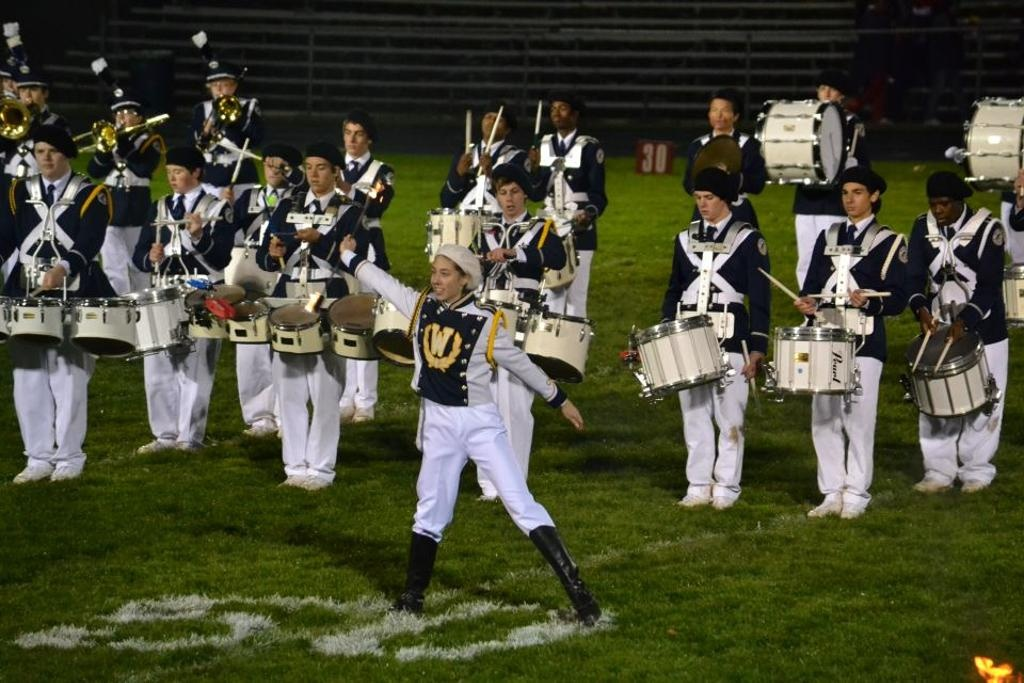human_face: (430, 253, 460, 301), (304, 154, 332, 192), (497, 176, 523, 216), (929, 190, 957, 226), (34, 140, 62, 176), (164, 160, 192, 192), (842, 180, 868, 214), (709, 95, 733, 129), (695, 186, 719, 220), (343, 121, 367, 154), (264, 154, 288, 186), (818, 80, 842, 109), (480, 110, 504, 138), (20, 80, 42, 110), (114, 104, 136, 132), (551, 99, 571, 128), (210, 77, 230, 103), (2, 74, 18, 98)
